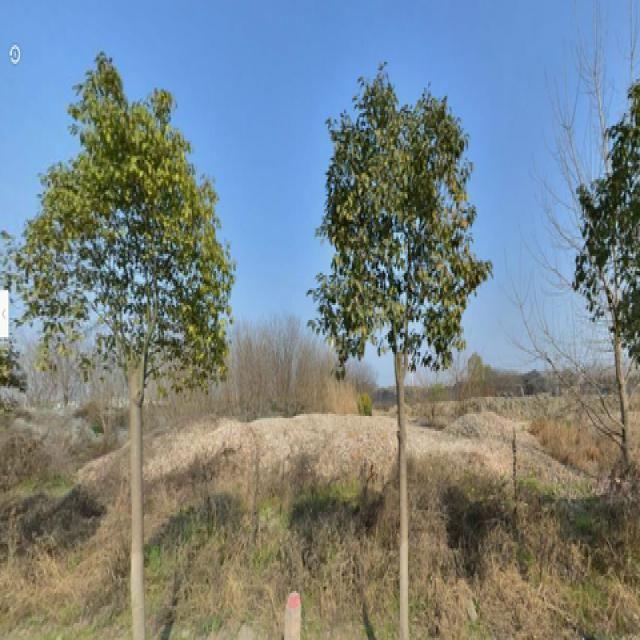cinn: (48, 100, 179, 606), (347, 87, 453, 608)
